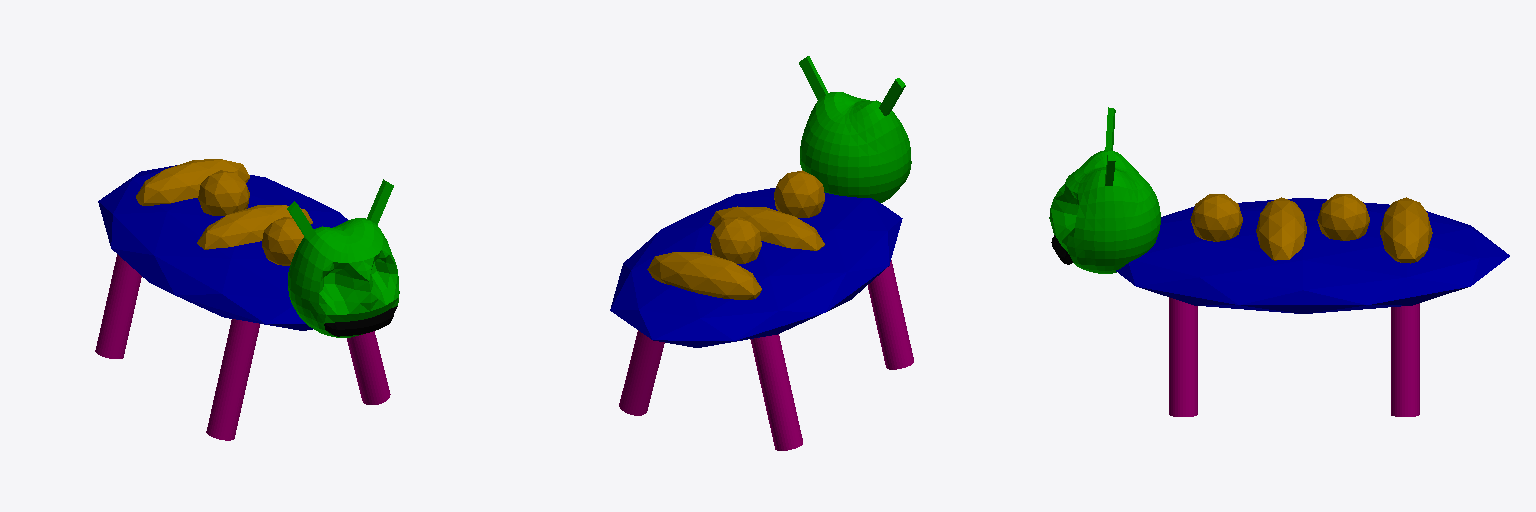
File: pig.obj
The picture shows the model from 3 angles: view 1: azimuth 30°, elevation 25°; view 2: azimuth 150°, elevation 25°; view 3: azimuth 270°, elevation 25°; orthographic projection.
Parts seen in each view (by area): view 1: Sphere; view 2: Sphere; view 3: Sphere.
Part boxes in pixels (x1,y1,x2,y2): Sphere: (95,159,399,440); Sphere: (610,56,913,450); Sphere: (1049,107,1509,416).
Size of the model in its own units: 1.13 by 1.35 by 2.23.